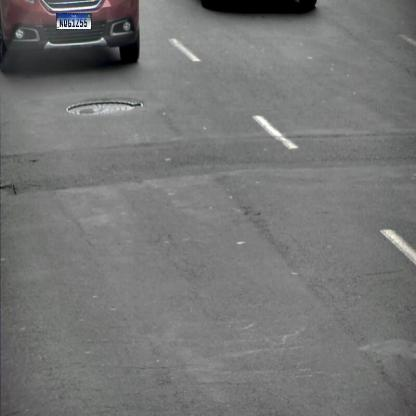PlacaM: (56, 13, 92, 30)
